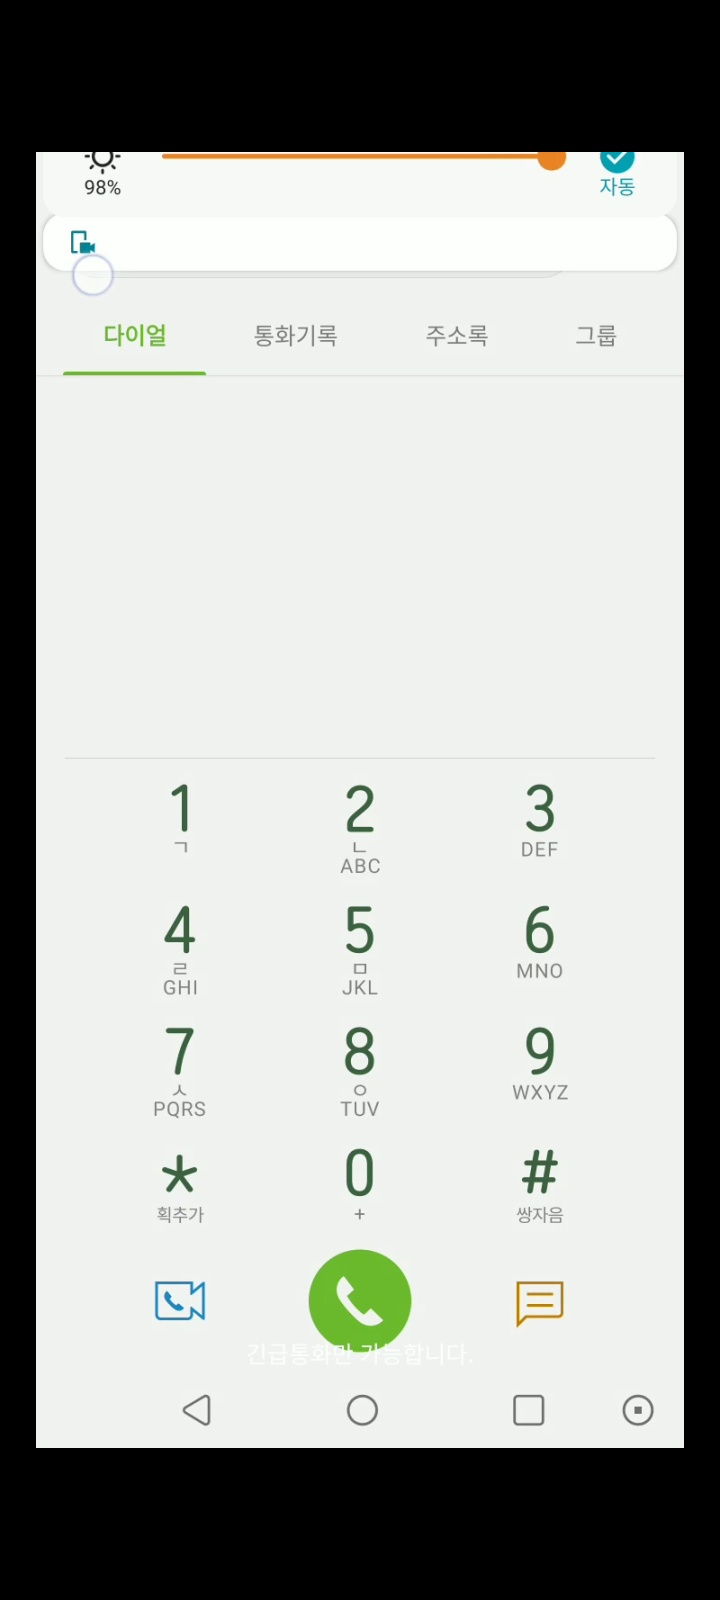Cursor: (70, 253, 115, 298)
